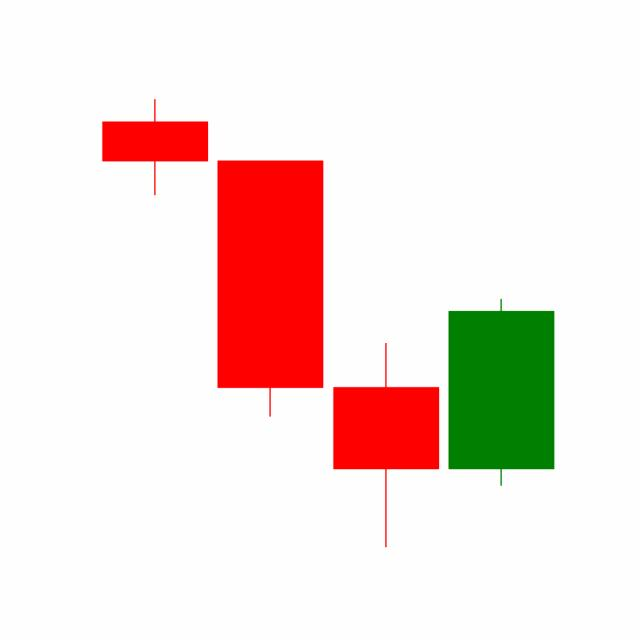Marubozu: (443, 296, 559, 488)
